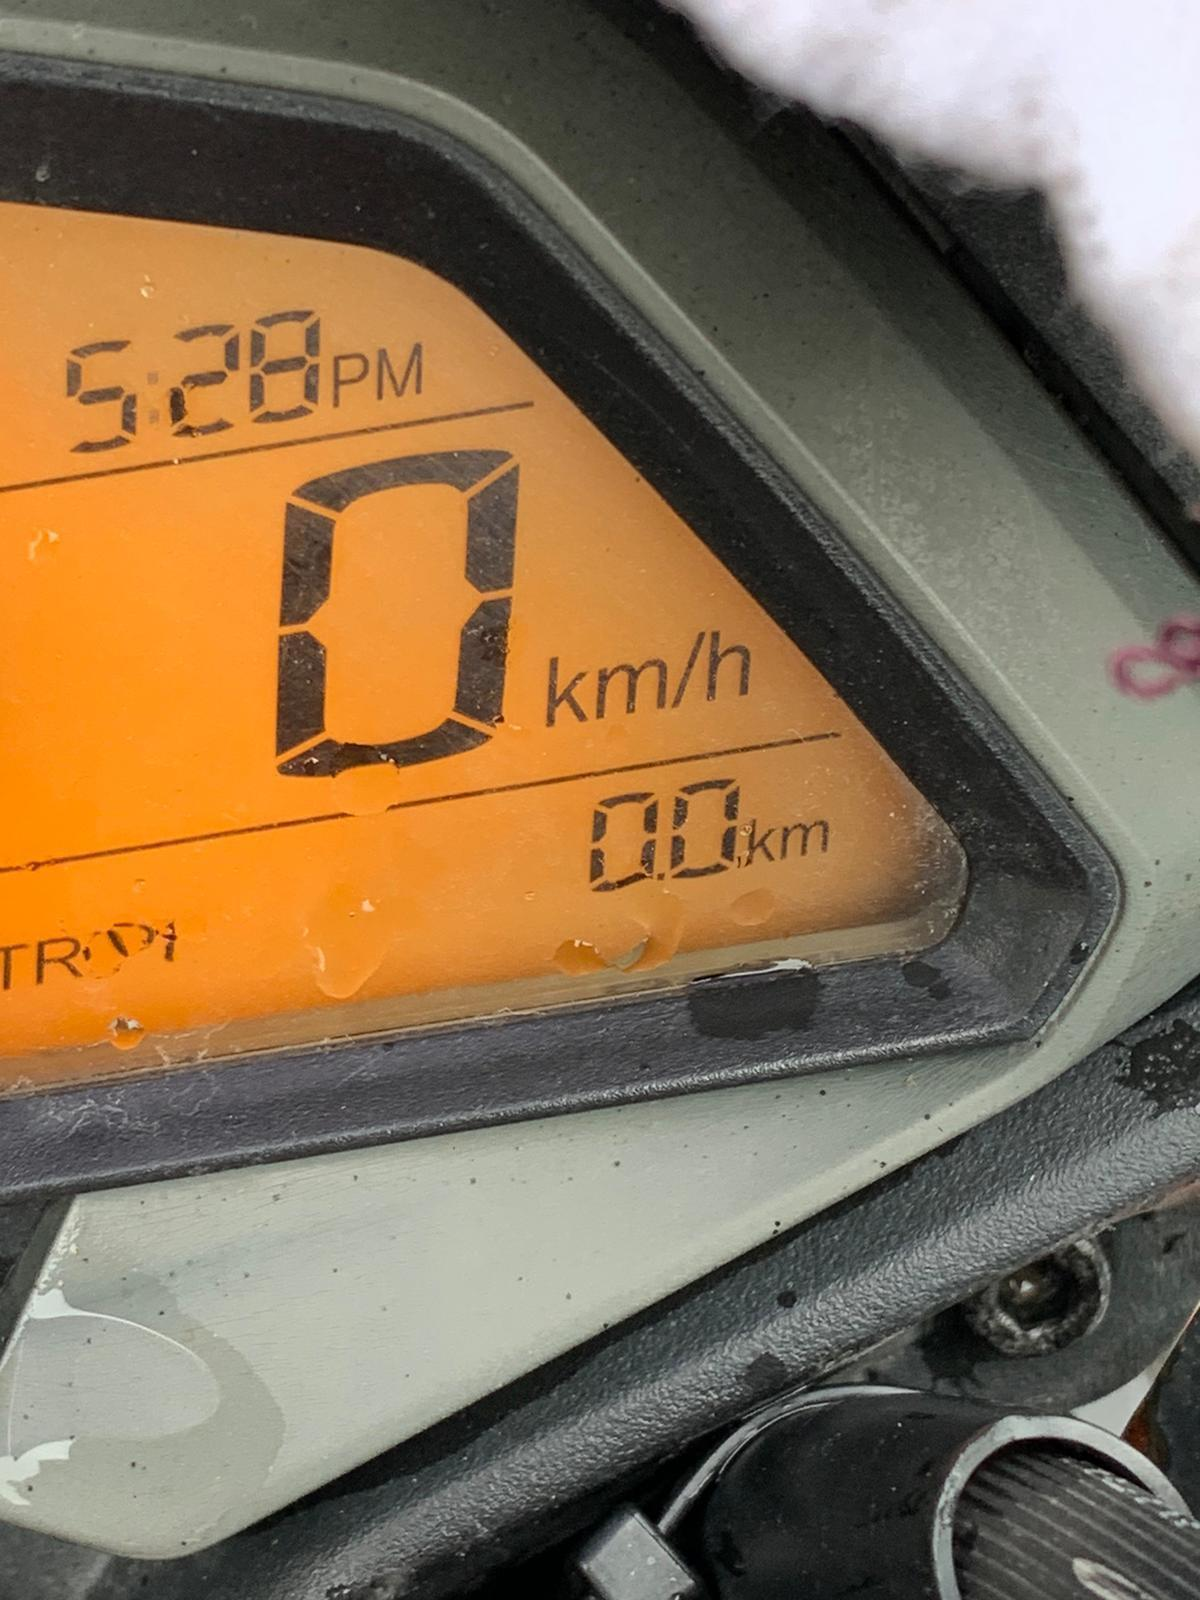,: (653, 863, 666, 889)
0: (268, 445, 524, 780), (584, 786, 654, 896), (669, 774, 737, 879)
2: (166, 321, 239, 438)
5: (62, 336, 141, 457)
8: (246, 307, 324, 426)
X: (592, 655, 669, 722), (541, 646, 589, 729), (706, 625, 753, 702), (373, 339, 426, 404), (667, 627, 705, 711), (776, 816, 832, 862), (33, 937, 82, 986), (332, 349, 371, 409), (742, 814, 774, 868), (0, 942, 29, 991), (142, 367, 164, 430)
odometer: (0, 157, 998, 1123)
